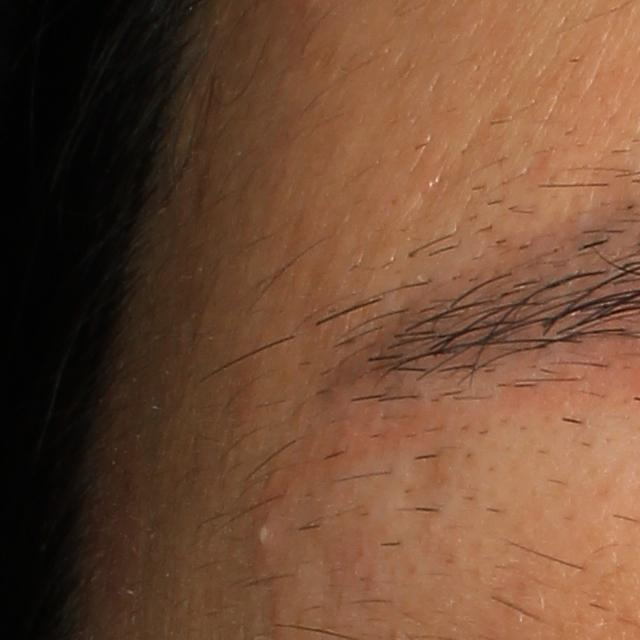pustule: (252, 517, 275, 554)
